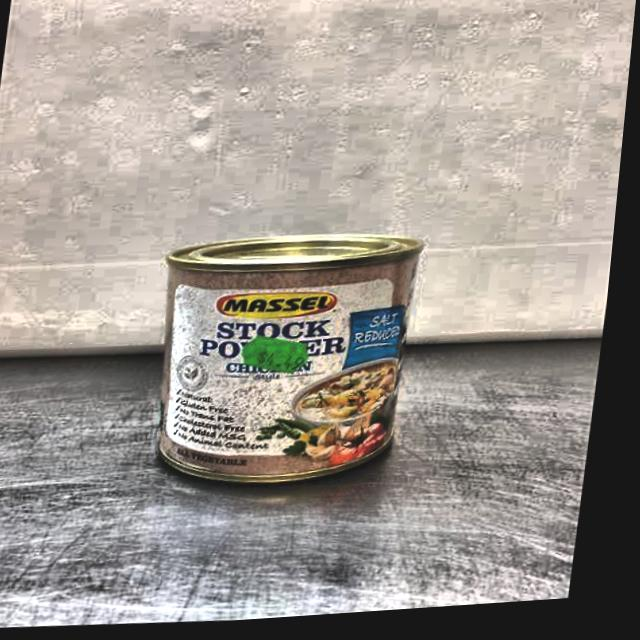Cans: (130, 206, 457, 522)
